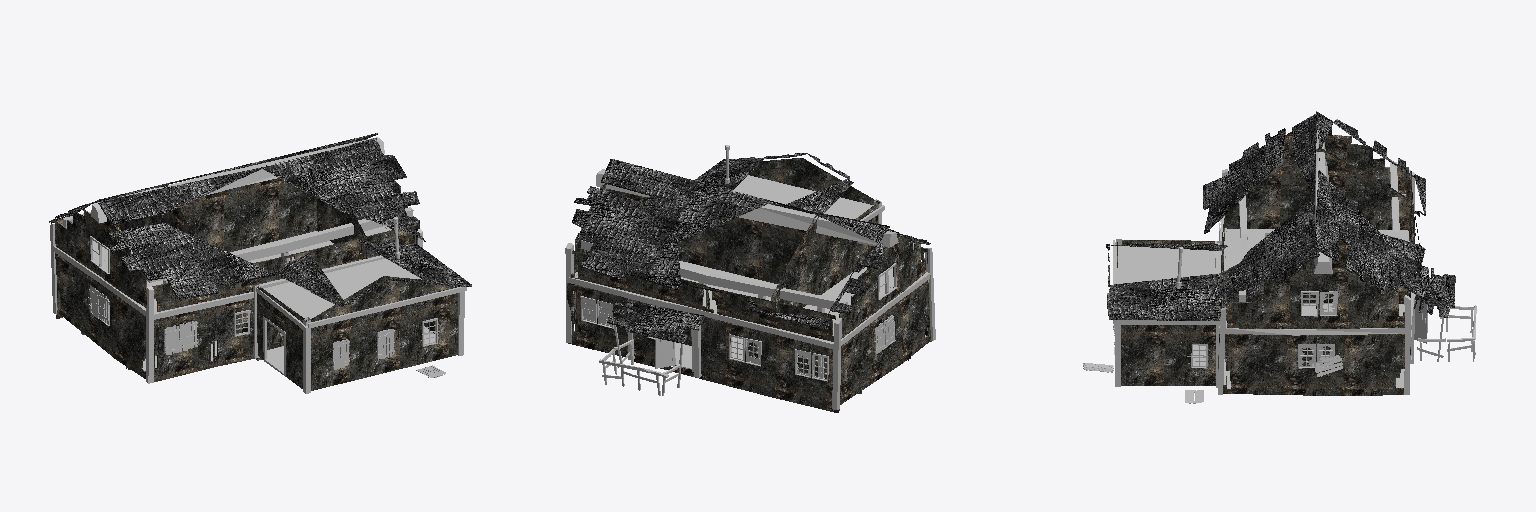
3 renders of one model, left to right at view 1: azimuth 30°, elevation 25°; view 2: azimuth 150°, elevation 25°; view 3: azimuth 270°, elevation 25°, orthographic.
Parts seen in each view (by area): view 1: Mesh02_0, Mesh03_1, Mesh06_3, Mesh04_2, Mesh19_9, Mesh07_4; view 2: Mesh02_0, Mesh03_1, Mesh06_3, Mesh04_2; view 3: Mesh02_0, Mesh03_1, Mesh06_3, Mesh04_2, Mesh19_9.
Boxes of the visible parts, x1,y1,x2,y2 form: Mesh02_0: [54, 149, 457, 390]; Mesh03_1: [49, 133, 471, 307]; Mesh06_3: [50, 137, 466, 393]; Mesh04_2: [93, 219, 434, 370]; Mesh19_9: [89, 285, 445, 377]; Mesh07_4: [333, 329, 394, 369]; Mesh02_0: [567, 158, 931, 412]; Mesh03_1: [572, 153, 930, 343]; Mesh06_3: [565, 169, 935, 409]; Mesh04_2: [576, 175, 925, 373]; Mesh02_0: [1117, 127, 1415, 395]; Mesh03_1: [1106, 111, 1455, 320]; Mesh06_3: [1113, 116, 1476, 394]; Mesh04_2: [1115, 229, 1406, 388]; Mesh19_9: [1083, 220, 1342, 403].
Bounding box in the file's own units: 67.56 × 32.89 × 76.14.
7 materials, 2 textured.